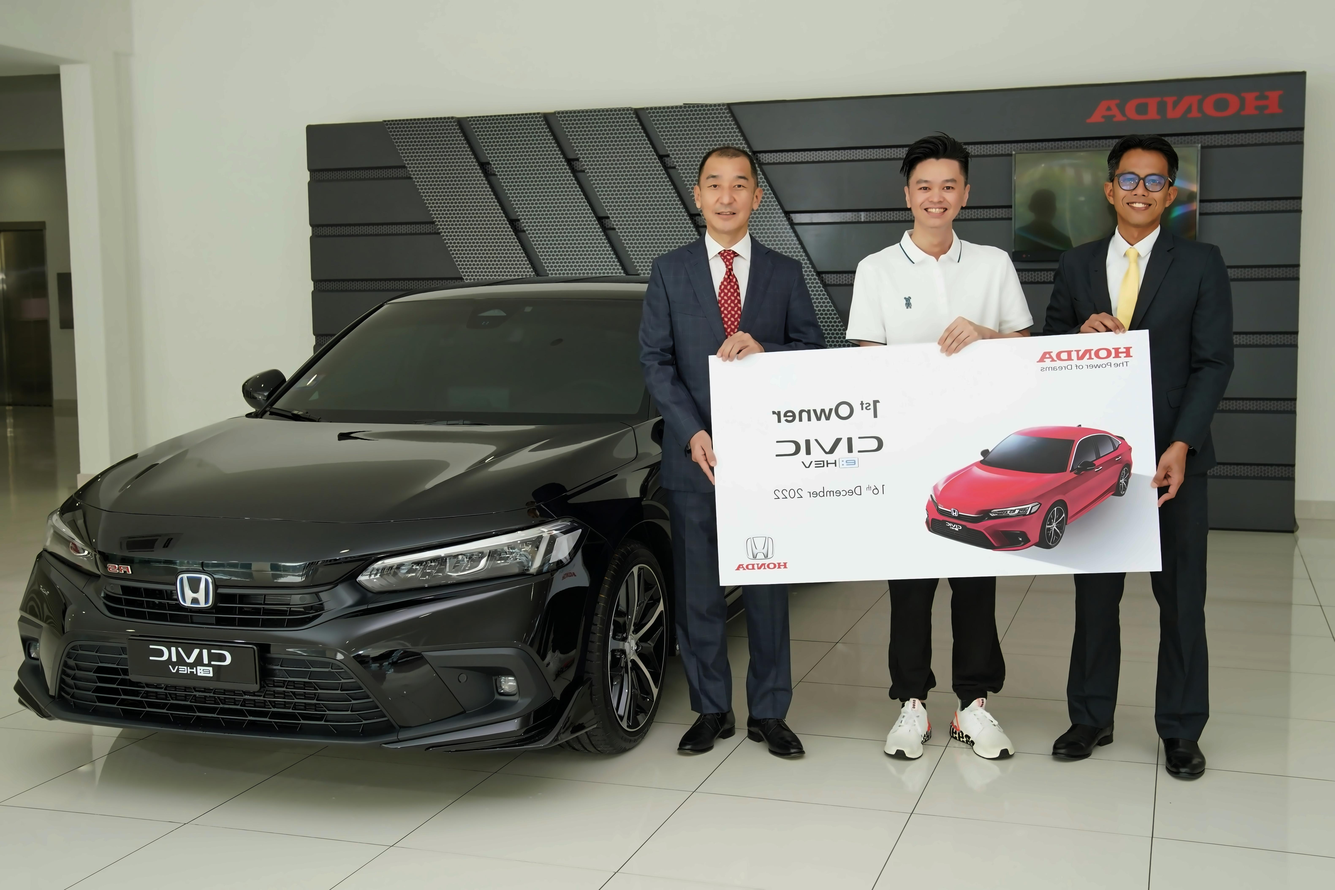Car hood: (68, 408, 652, 584)
Front bumper: (6, 562, 596, 747)
Headlight - -L-: (352, 505, 602, 601)
Headlight - -R-: (42, 494, 104, 580)
Side mirror - -R-: (231, 361, 289, 411)
